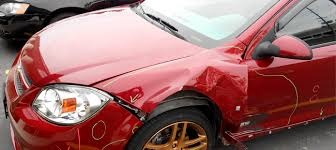Dent: (117, 62, 249, 106)
